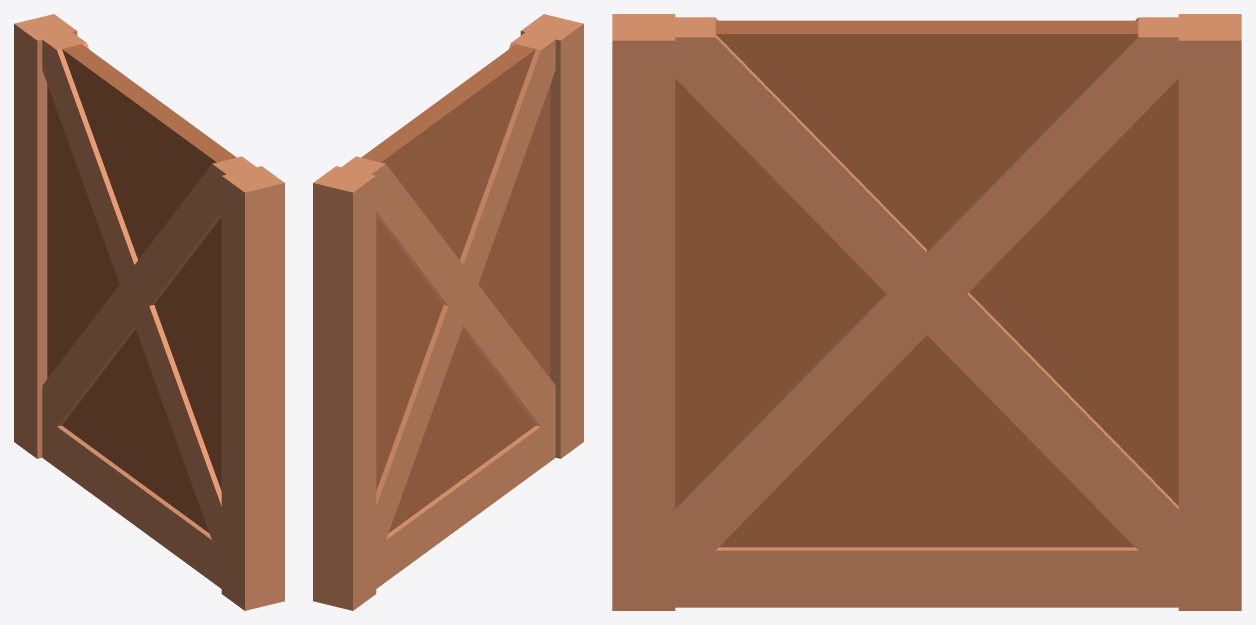
The model's file is wallWoodDetailCross.fbx.
3 views of the same model, side by side, from view 1: azimuth 30°, elevation 25°; view 2: azimuth 150°, elevation 25°; view 3: azimuth 270°, elevation 25° (orthographic). The views are drawn at different scales.
Visible parts, largest first — view 1: wallWoodDetailCross; view 2: wallWoodDetailCross; view 3: wallWoodDetailCross.
Part boxes in pixels (x1,y1,x2,y2): wallWoodDetailCross: [14, 14, 284, 610]; wallWoodDetailCross: [313, 14, 583, 610]; wallWoodDetailCross: [612, 14, 1241, 610].
Size of the model in its own units: 1 by 10 by 10.
